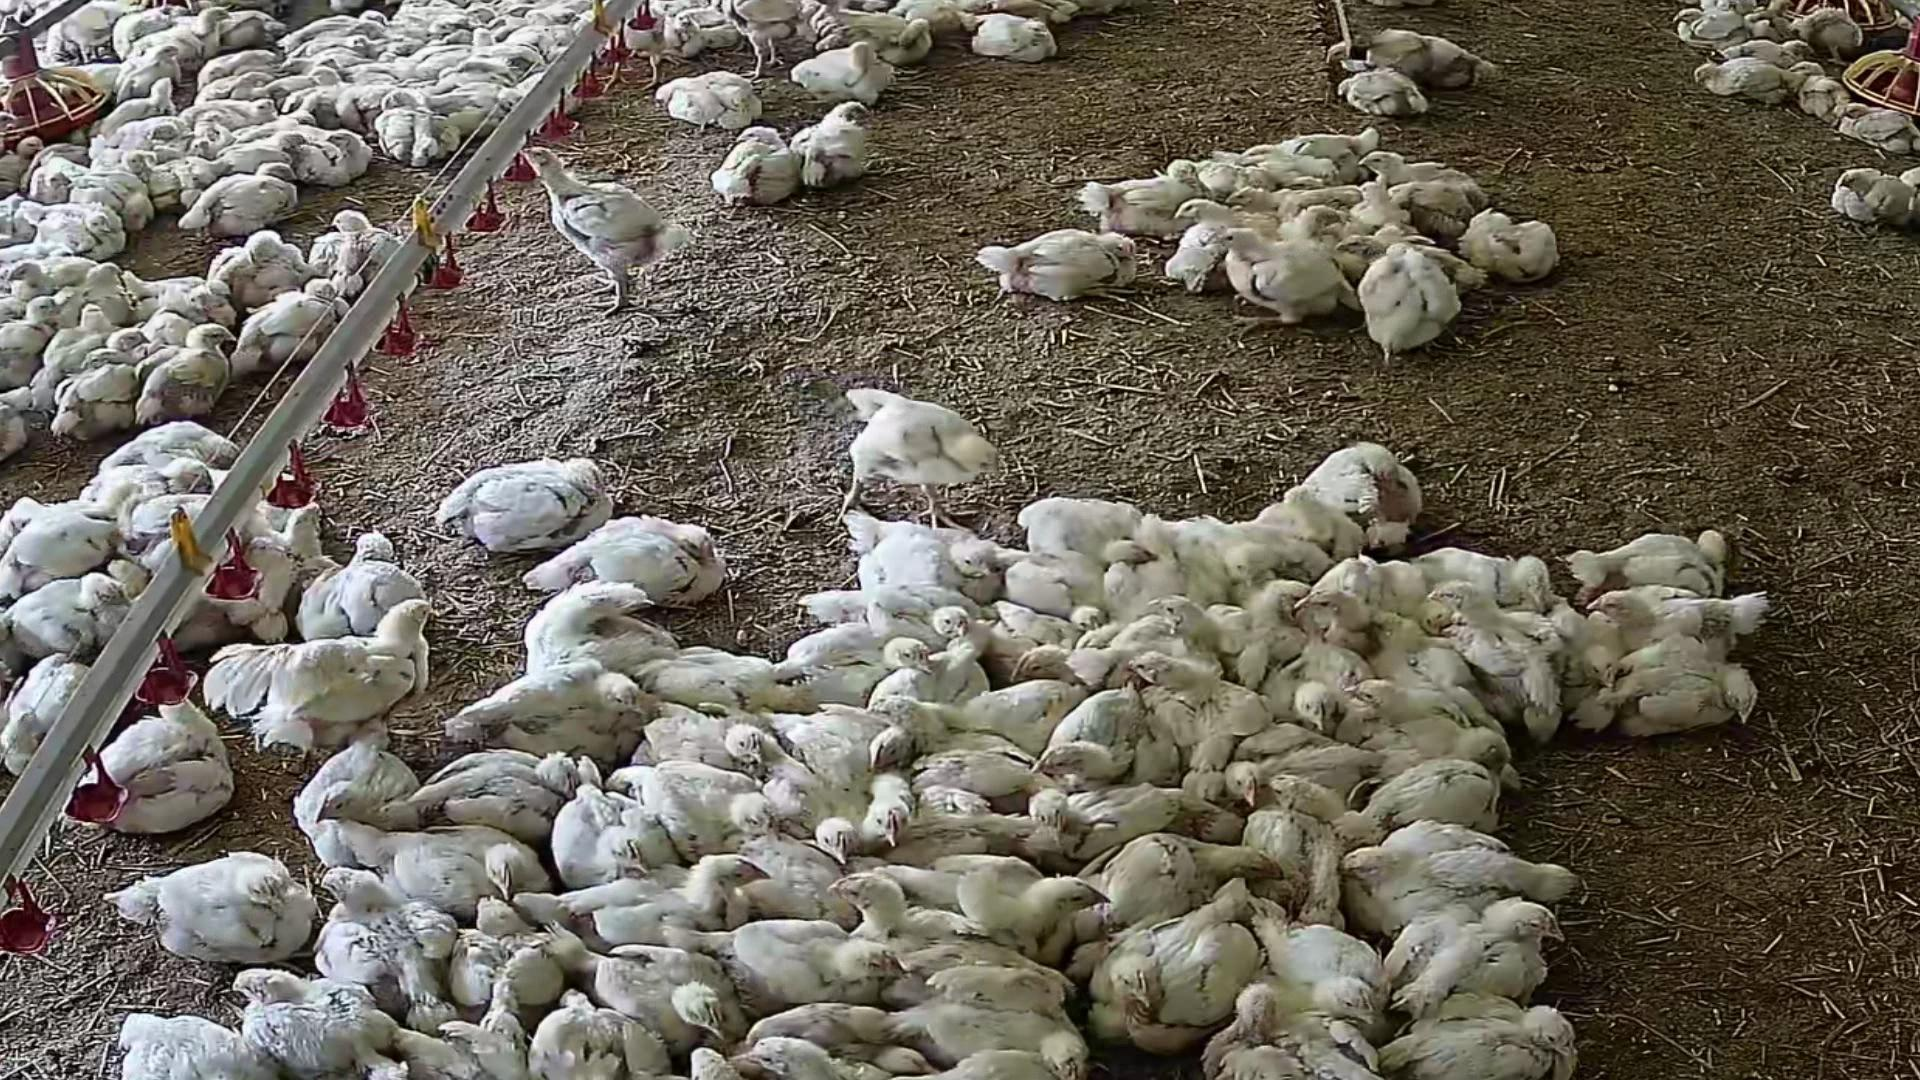poussin: (493, 124, 694, 324), (220, 604, 455, 770), (1083, 876, 1274, 1043), (301, 866, 463, 1022), (70, 700, 251, 835), (103, 844, 334, 948), (1429, 588, 1572, 752), (411, 446, 625, 554), (1249, 893, 1400, 1043), (464, 657, 644, 783), (840, 375, 1014, 502), (1404, 893, 1593, 1006), (832, 873, 1026, 982), (720, 906, 898, 1014), (236, 968, 406, 1080), (1127, 647, 1270, 775), (343, 815, 549, 902), (1396, 989, 1585, 1080), (597, 936, 746, 1051), (411, 732, 584, 831), (881, 1004, 1098, 1080), (1192, 993, 1382, 1080), (851, 509, 1000, 617), (1029, 774, 1238, 849), (973, 223, 1153, 310), (1225, 498, 1320, 659), (605, 848, 761, 943), (1298, 583, 1436, 686), (299, 526, 429, 636), (1313, 423, 1448, 527), (1126, 531, 1232, 662), (1585, 514, 1758, 593), (566, 525, 723, 612), (1025, 687, 1154, 793), (1329, 25, 1494, 107), (531, 994, 684, 1080), (104, 1004, 274, 1080), (306, 741, 407, 869), (1367, 840, 1543, 914), (641, 758, 781, 851), (1002, 539, 1120, 647), (1229, 231, 1350, 335), (633, 630, 779, 716), (1420, 534, 1578, 613), (17, 570, 142, 669), (559, 760, 659, 881), (218, 284, 361, 368), (1598, 579, 1768, 650), (804, 750, 934, 844), (1590, 657, 1766, 724), (1365, 148, 1489, 235), (0, 647, 95, 758), (189, 154, 309, 239), (699, 112, 786, 228), (472, 920, 553, 1046), (233, 518, 335, 617), (1349, 228, 1477, 305), (1232, 723, 1364, 796), (634, 62, 766, 136), (200, 218, 319, 299), (1170, 589, 1269, 687), (1371, 252, 1458, 360), (789, 104, 886, 199), (150, 322, 243, 422), (315, 190, 407, 290), (1378, 764, 1507, 833), (0, 500, 120, 575), (824, 579, 978, 637), (800, 625, 919, 700), (1014, 628, 1158, 690), (963, 857, 1089, 927), (1034, 484, 1137, 567), (654, 696, 781, 764), (1818, 153, 1916, 237), (1373, 678, 1482, 752), (790, 704, 910, 770), (769, 762, 855, 855), (1088, 153, 1200, 223), (752, 997, 887, 1052), (127, 415, 256, 472), (1685, 51, 1793, 119), (1386, 719, 1513, 775), (1458, 207, 1557, 280), (92, 444, 222, 498), (1253, 136, 1370, 194), (82, 331, 148, 434), (22, 193, 123, 258), (375, 99, 467, 170), (290, 121, 392, 186), (44, 260, 148, 320), (964, 15, 1076, 70), (132, 140, 223, 207), (141, 270, 240, 331), (724, 0, 796, 80), (1840, 91, 1920, 162), (1336, 73, 1429, 132), (795, 44, 894, 99), (621, 3, 679, 96), (1788, 1, 1871, 66), (831, 0, 927, 55), (84, 84, 177, 138), (128, 496, 214, 553), (740, 1038, 853, 1080), (1176, 193, 1253, 252), (1673, 3, 1759, 55), (1788, 61, 1853, 129), (224, 124, 313, 173), (1721, 30, 1812, 75), (16, 244, 92, 297), (44, 319, 138, 357), (654, 4, 715, 62), (1240, 182, 1313, 229), (0, 128, 44, 204), (0, 298, 51, 363), (1739, 0, 1808, 47), (111, 47, 190, 88), (190, 92, 281, 125), (1354, 187, 1410, 229), (683, 1044, 748, 1080), (32, 167, 76, 198)
